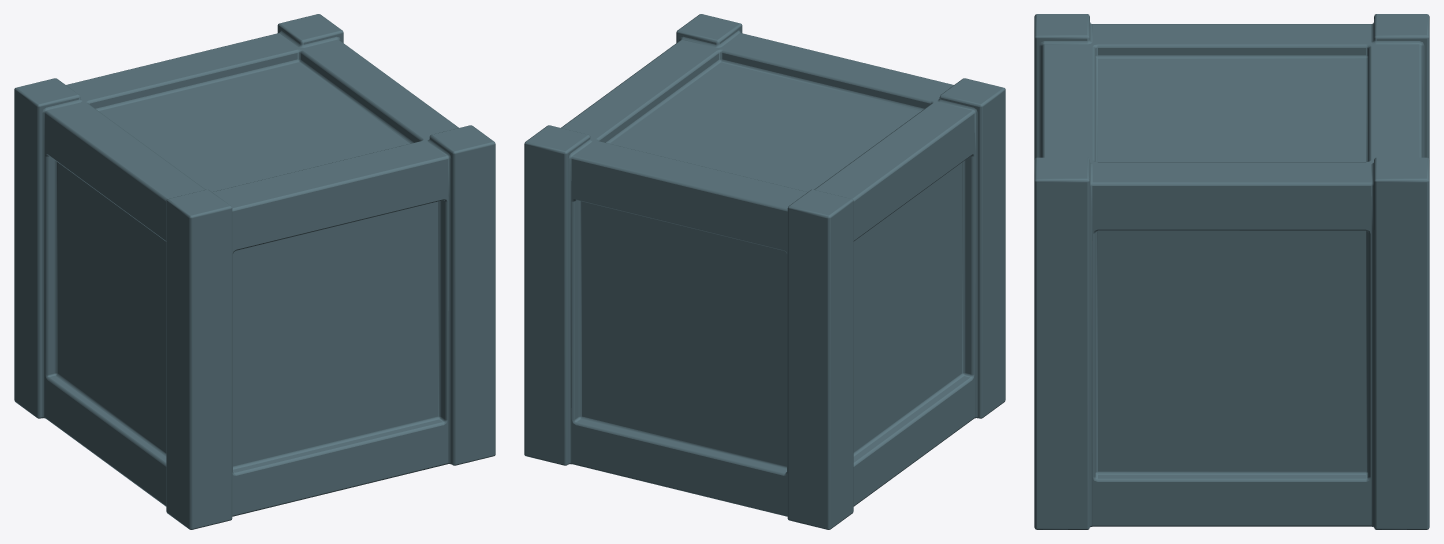
The model's file is SM_Crate_Large.glb.
3 views of the same model, side by side, from view 1: azimuth 30°, elevation 25°; view 2: azimuth 150°, elevation 25°; view 3: azimuth 270°, elevation 25° (orthographic). The views are drawn at different scales.
Parts seen in each view (by area): view 1: SM_Crate_Large; view 2: SM_Crate_Large; view 3: SM_Crate_Large.
Boxes of the visible parts, box(x1,y1,x2,y2) form: SM_Crate_Large: box(14, 14, 495, 529); SM_Crate_Large: box(524, 14, 1005, 529); SM_Crate_Large: box(1034, 14, 1429, 529).
Size of the model in its own units: 1.04 by 1.02 by 1.04.
